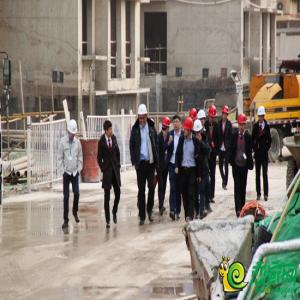none: (104, 122, 114, 137), (174, 115, 182, 132)
red: (238, 114, 248, 134), (184, 119, 194, 138), (162, 116, 171, 133), (209, 106, 218, 123), (223, 106, 230, 121), (190, 109, 197, 123)
white: (138, 104, 148, 127), (68, 120, 77, 139), (193, 120, 203, 137), (257, 106, 266, 124), (198, 109, 206, 126)
